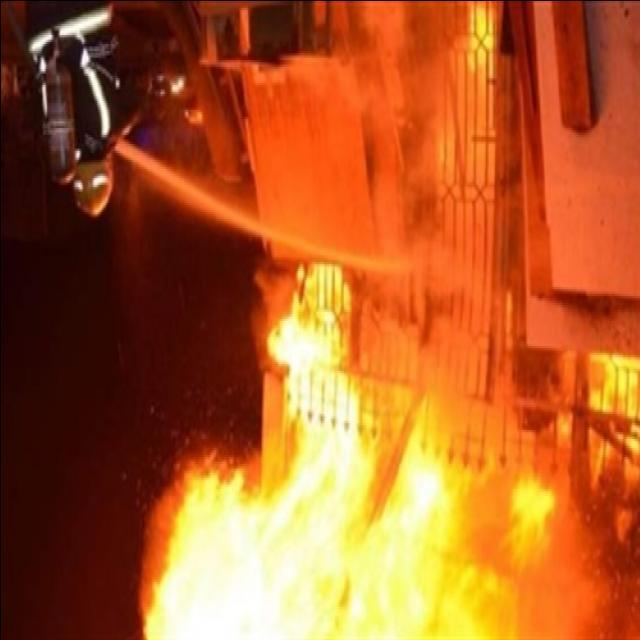Fire: (147, 266, 640, 640)
